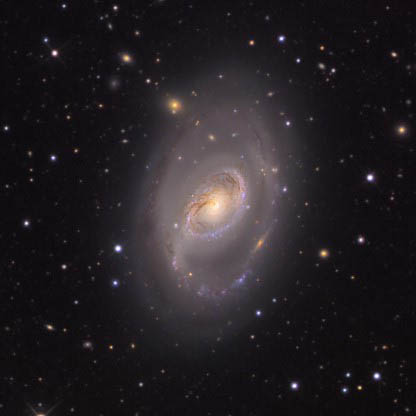Messier 96: (110, 60, 325, 352)
